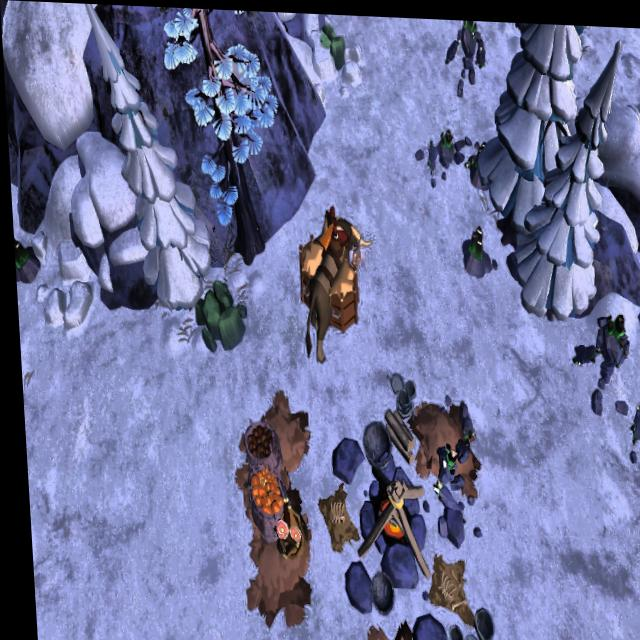ore_t3: (464, 220, 484, 257), (11, 239, 28, 272)
rock_t3: (185, 271, 246, 360), (310, 17, 352, 77)
